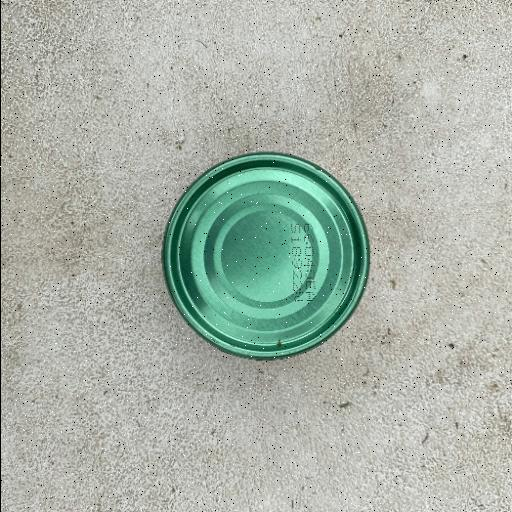Metal: (160, 150, 372, 362)
